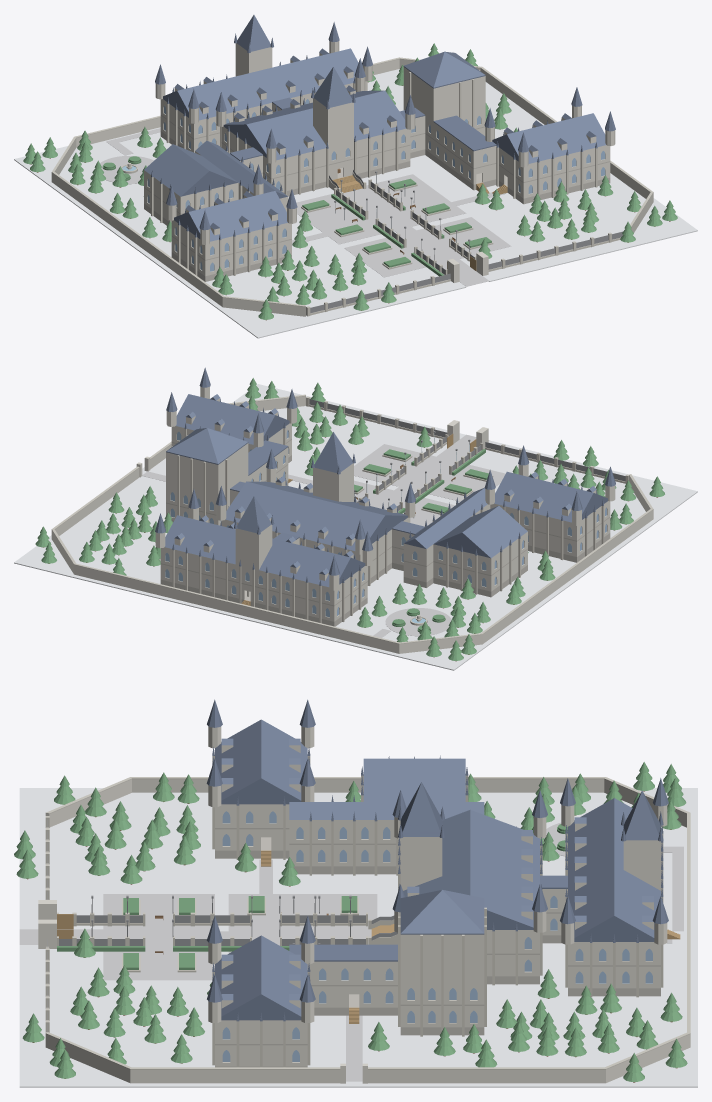
Rendered from lahudi-academy.glb.
3 renders of one model, top to bottom at view 1: azimuth 30°, elevation 25°; view 2: azimuth 150°, elevation 25°; view 3: azimuth 270°, elevation 25°, orthographic. The views are drawn at different scales.
Parts seen in each view (by area): view 1: TERRAIN_SNOW_G0, L08_LIBRARY_ROOF_GABLE, SITE_BOUNDARY_WALL, L04_MAIN_ROOF_GABLE, L03_COURTYARD_PAVING, L02_FORECOURT_PAVING, L06_EAST_C_ROOF_GABLE, L06_WEST_A_ROOF_GABLE, L05_ANNEX_ROOF_GABLE, L04_MAIN_2F_CORE_WALL_S, SITE_BUILDING_PODIUM, L07_STAIR_TOWER_2F_CORE_WALL_S (+38 smaller); view 2: TERRAIN_SNOW_G0, SITE_BOUNDARY_WALL, L04_MAIN_ROOF_GABLE, L08_LIBRARY_ROOF_GABLE, L02_FORECOURT_PAVING, L06_WEST_A_ROOF_GABLE, L06_EAST_C_ROOF_GABLE, L05_ANNEX_ROOF_GABLE, SITE_BOUNDARY_WALL_CAP, L08_LIBRARY_2F_CORE_WALL_N, L07_STAIR_TOWER_2F_CORE_WALL_N, L08_LIBRARY_1F_CORE_WALL_N (+31 smaller); view 3: TERRAIN_SNOW_G0, SITE_BOUNDARY_WALL, L04_MAIN_ROOF_GABLE, L08_LIBRARY_ROOF_GABLE, L02_FORECOURT_PAVING, L06_EAST_C_ROOF_GABLE, L06_WEST_A_ROOF_GABLE, L07_STAIR_TOWER_2F_CORE_WALL_E, L03_COURTYARD_PAVING, L05_ANNEX_ROOF_GABLE, SITE_BOUNDARY_WALL_CAP, L07_STAIR_TOWER_ROOF_SPIRE_PROXY_PENDING (+41 smaller).
Part boxes in pixels (box(x1,y1,x2,y2)): TERRAIN_SNOW_G0: box(14, 52, 697, 338); L08_LIBRARY_ROOF_GABLE: box(163, 48, 358, 120); SITE_BOUNDARY_WALL: box(51, 59, 653, 316); L04_MAIN_ROOF_GABLE: box(223, 90, 405, 160); L03_COURTYARD_PAVING: box(296, 174, 466, 244); L02_FORECOURT_PAVING: box(344, 217, 511, 277); L06_EAST_C_ROOF_GABLE: box(492, 113, 605, 163); L06_WEST_A_ROOF_GABLE: box(174, 191, 287, 241); L05_ANNEX_ROOF_GABLE: box(144, 144, 237, 196); L04_MAIN_2F_CORE_WALL_S: box(270, 128, 410, 178); SITE_BUILDING_PODIUM: box(144, 132, 610, 281); L07_STAIR_TOWER_2F_CORE_WALL_S: box(433, 76, 485, 138); TERRAIN_SNOW_G0: box(14, 384, 697, 670); SITE_BOUNDARY_WALL: box(51, 396, 653, 653); L04_MAIN_ROOF_GABLE: box(225, 481, 407, 550); L08_LIBRARY_ROOF_GABLE: box(165, 515, 365, 587); L02_FORECOURT_PAVING: box(354, 444, 505, 501); L06_WEST_A_ROOF_GABLE: box(494, 471, 607, 522); L06_EAST_C_ROOF_GABLE: box(176, 394, 289, 444); L05_ANNEX_ROOF_GABLE: box(433, 506, 527, 558); SITE_BOUNDARY_WALL_CAP: box(51, 394, 653, 644); L08_LIBRARY_2F_CORE_WALL_N: box(160, 547, 334, 605); L07_STAIR_TOWER_2F_CORE_WALL_N: box(166, 452, 218, 514); L08_LIBRARY_1F_CORE_WALL_N: box(160, 564, 334, 621); TERRAIN_SNOW_G0: box(19, 788, 697, 1087); SITE_BOUNDARY_WALL: box(45, 779, 690, 1083); L04_MAIN_ROOF_GABLE: box(403, 809, 539, 929); L08_LIBRARY_ROOF_GABLE: box(568, 798, 660, 941); L02_FORECOURT_PAVING: box(103, 894, 214, 980); L06_EAST_C_ROOF_GABLE: box(215, 935, 307, 1020); L06_WEST_A_ROOF_GABLE: box(215, 719, 307, 804); L07_STAIR_TOWER_2F_CORE_WALL_E: box(402, 934, 482, 1004); L03_COURTYARD_PAVING: box(228, 894, 377, 953); L05_ANNEX_ROOF_GABLE: box(363, 758, 465, 801); SITE_BOUNDARY_WALL_CAP: box(45, 777, 690, 1069); L07_STAIR_TOWER_ROOF_SPIRE_PROXY_PENDING: box(400, 890, 484, 933).
Size of the model in its own units: 153 by 37.2 by 147.
